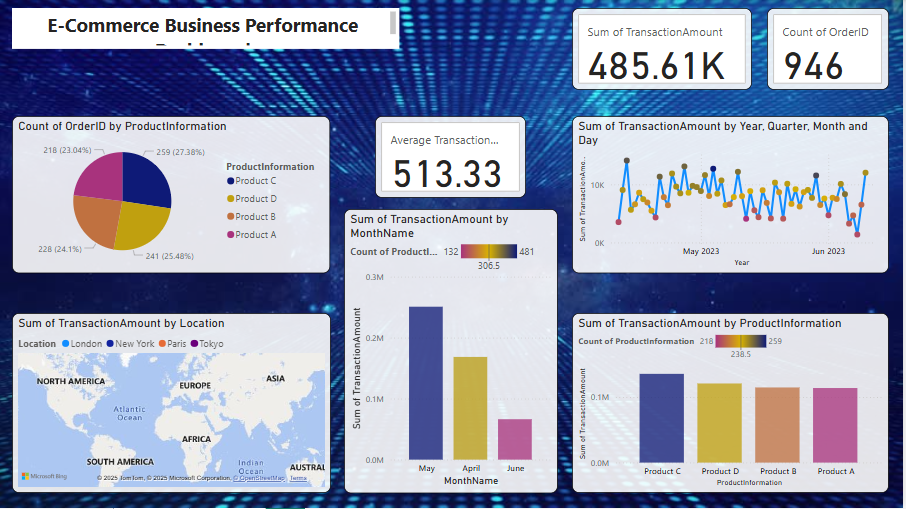

The dashboard page shown, as its layout file describes it:
{"tool":"powerbi","page":{"name":"Page 1","canvas":[1280,720],"ordinal":0},"visuals":[{"type":"textbox","box":[18.4,11.3,548.5,58.1],"z":0},{"type":"cardVisual","fields":{"Data":["Sum(rfm_data.TransactionAmount)"]},"box":[812.1,11.3,255.1,116.2],"z":1000},{"type":"cardVisual","fields":{"Data":["CountNonNull(rfm_data.OrderID)"]},"box":[1088.5,11.3,172.9,116.2],"z":2000},{"type":"cardVisual","fields":{"Data":["rfm_data.Average Transaction Value"]},"box":[532.9,164.4,214,116.2],"z":3000},{"type":"lineChart","fields":{"Category":["rfm_data.PurchaseDate.Variation.Date Hierarchy.Year","rfm_data.PurchaseDate.Variation.Date Hierarchy.Quarter","rfm_data.PurchaseDate.Variation.Date Hierarchy.Month","rfm_data.PurchaseDate.Variation.Date Hierarchy.Day"],"Y":["Sum(rfm_data.TransactionAmount)"]},"box":[812.1,164.4,449.3,222.5],"z":4000},{"type":"clusteredColumnChart","fields":{"Category":["rfm_data.ProductInformation"],"Y":["Sum(rfm_data.TransactionAmount)"]},"box":[812.1,443.6,449.3,255.1],"z":5000},{"type":"map","fields":{"Series":["rfm_data.Location"],"Size":["Sum(rfm_data.TransactionAmount)"]},"box":[18.4,443.6,452.1,255.1],"z":6000},{"type":"pieChart","fields":{"Y":["CountNonNull(rfm_data.OrderID)"],"Category":["rfm_data.ProductInformation"]},"box":[18.4,164.4,450.7,222.5],"z":7000},{"type":"clusteredColumnChart","fields":{"Category":["rfm_data.MonthName"],"Y":["Sum(rfm_data.TransactionAmount)"]},"box":[489,296.2,303.3,402.5],"z":8000}]}

Visuals, with their boxes in screenshot pixels (x1, y1, x2, y2), scaled from the page's 1280x720 canvas onto the 906x509 screenshot:
textbox: 13/8/401/49
cardVisual - Sum(rfm_data.TransactionAmount): 575/8/755/90
cardVisual - CountNonNull(rfm_data.OrderID): 770/8/893/90
cardVisual - rfm_data.Average Transaction Value: 377/116/529/198
lineChart - rfm_data.PurchaseDate.Variation.Date Hierarchy.Year x rfm_data.PurchaseDate.Variation.Date Hierarchy.Quarter: 575/116/893/274
clusteredColumnChart - rfm_data.ProductInformation x Sum(rfm_data.TransactionAmount): 575/314/893/494
map - rfm_data.Location x Sum(rfm_data.TransactionAmount): 13/314/333/494
pieChart - CountNonNull(rfm_data.OrderID) x rfm_data.ProductInformation: 13/116/332/274
clusteredColumnChart - rfm_data.MonthName x Sum(rfm_data.TransactionAmount): 346/209/561/494
